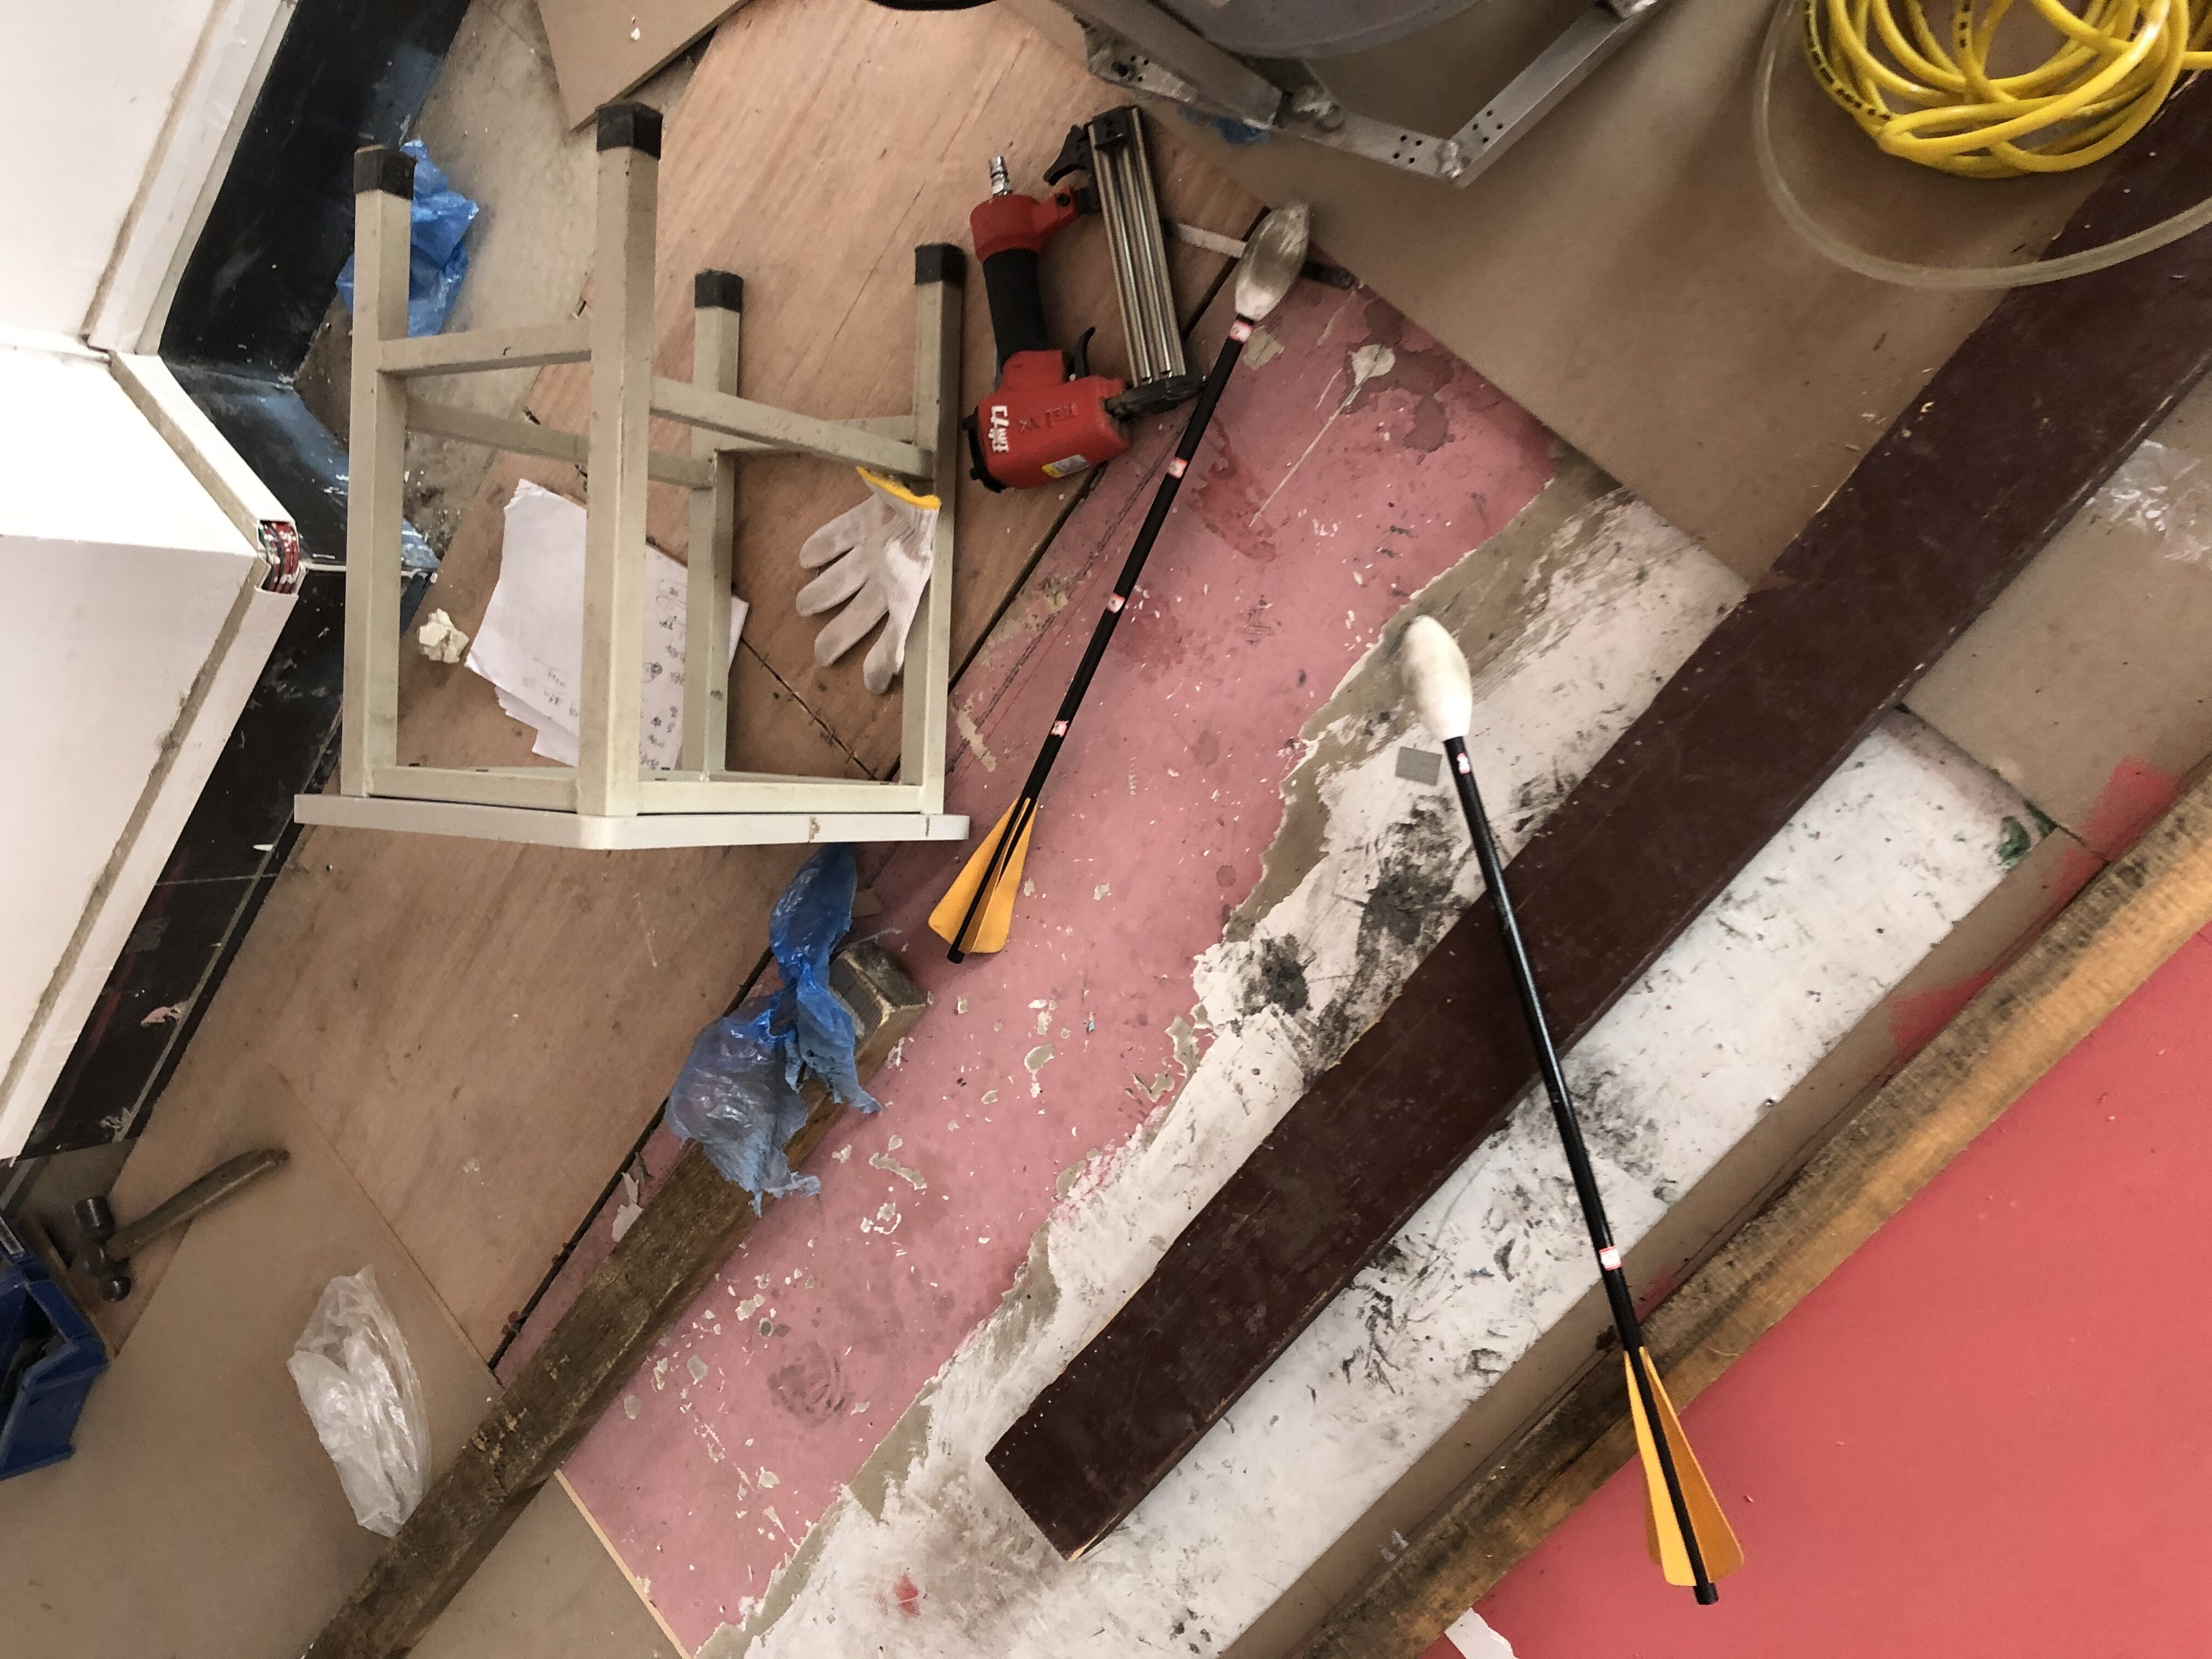arrow: (1404, 610, 1749, 1607), (928, 199, 1310, 965)
arrowFront: (1400, 608, 1472, 742), (1233, 199, 1306, 321)
